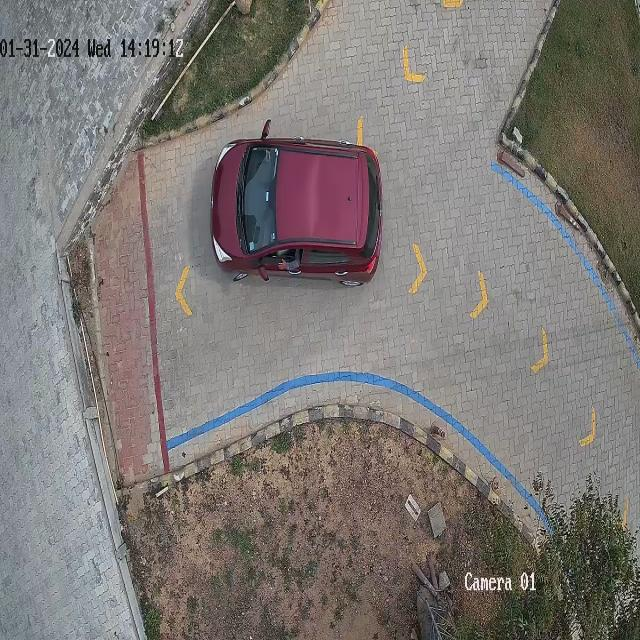car: (211, 122, 384, 287)
